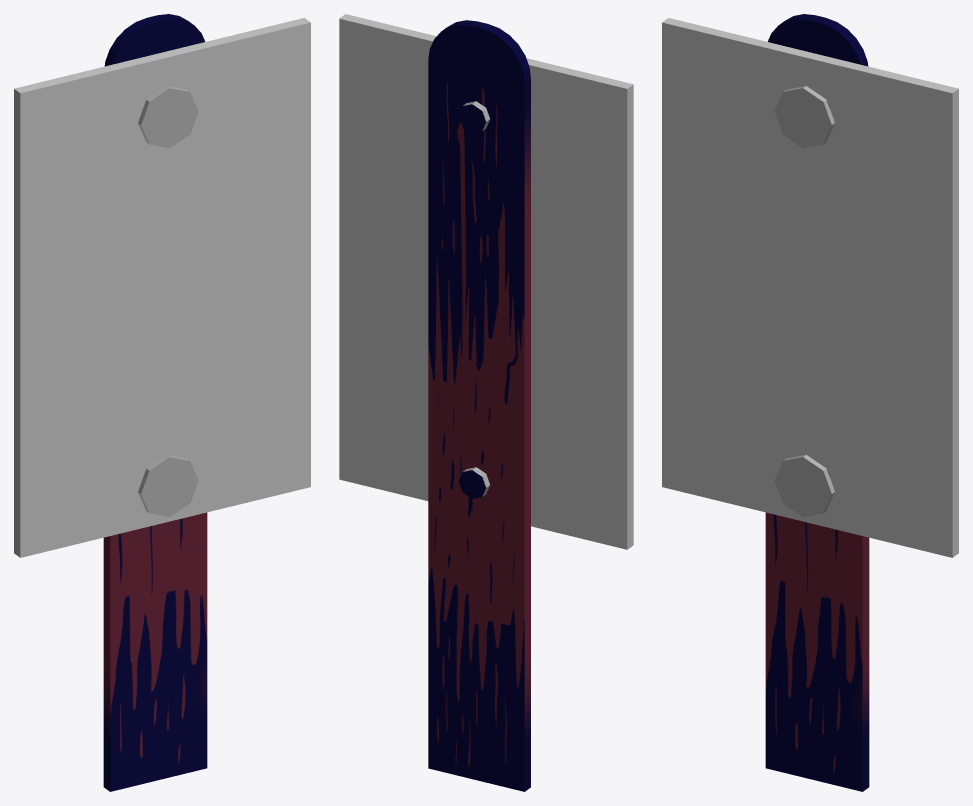
Rendered from Standing Prop Med.fbx.
3 views of the same model, side by side, from view 1: azimuth 30°, elevation 25°; view 2: azimuth 150°, elevation 25°; view 3: azimuth 330°, elevation 25° (orthographic).
Visible parts, largest first — view 1: Sign, Popsicle, Screw.001, Screw; view 2: Sign, Popsicle, Screw.001, Screw; view 3: Sign, Popsicle, Screw.001, Screw.
Boxes of the visible parts, x1,y1,x2,y2 form: Sign: (14, 18, 310, 557); Popsicle: (103, 14, 207, 791); Screw.001: (138, 86, 198, 148); Screw: (138, 455, 198, 517); Sign: (339, 14, 633, 549); Popsicle: (428, 20, 530, 791); Screw.001: (458, 101, 489, 132); Screw: (458, 467, 489, 498); Sign: (662, 18, 958, 557); Popsicle: (765, 14, 869, 791); Screw.001: (774, 86, 834, 148); Screw: (774, 455, 834, 517).
Bounding box in the file's own units: 200 × 499 × 25.72.
